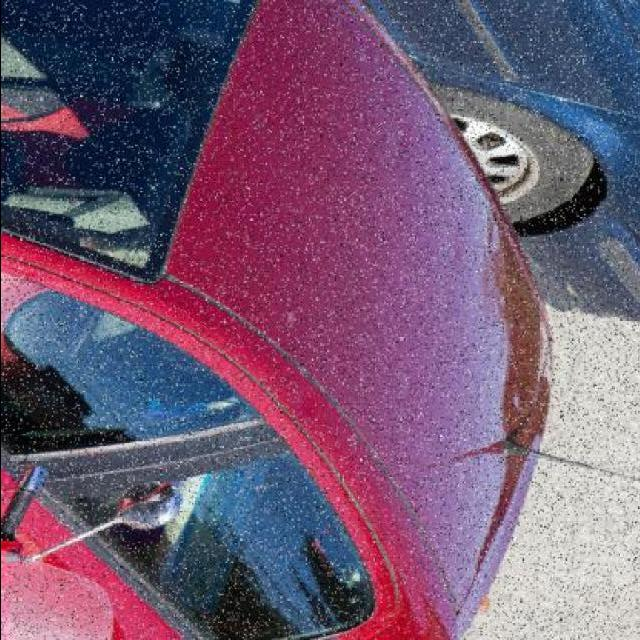roof-dent: (133, 8, 425, 392), (216, 168, 500, 516), (268, 349, 546, 606)
